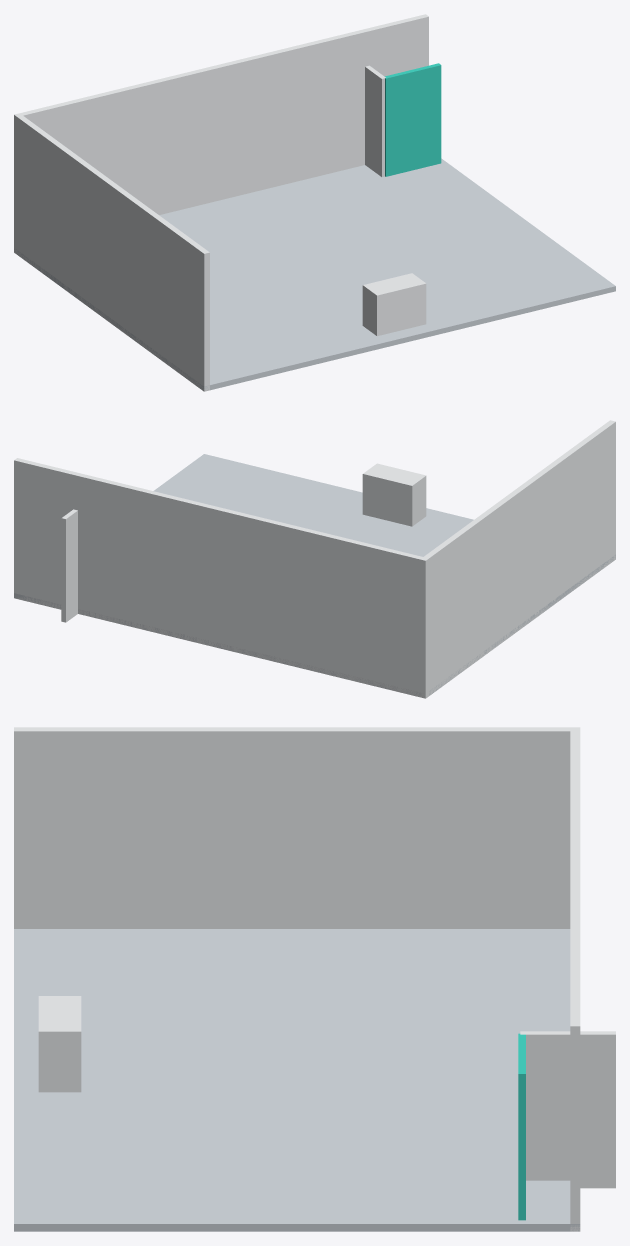
The picture shows the model from 3 angles, top to bottom: view 1: azimuth 30°, elevation 25°; view 2: azimuth 150°, elevation 25°; view 3: azimuth 270°, elevation 25°; orthographic projection. The views are drawn at different scales.
Visible parts, largest first — view 1: Exhibition Booth Concept; view 2: Exhibition Booth Concept; view 3: Exhibition Booth Concept.
Boxes of the visible parts, left/top/right/bottom form: Exhibition Booth Concept: left=14, top=14, right=615, bottom=391; Exhibition Booth Concept: left=14, top=420, right=615, bottom=698; Exhibition Booth Concept: left=14, top=727, right=615, bottom=1231.
Bounding box in the file's own units: 10 × 3.2 × 8.51.
